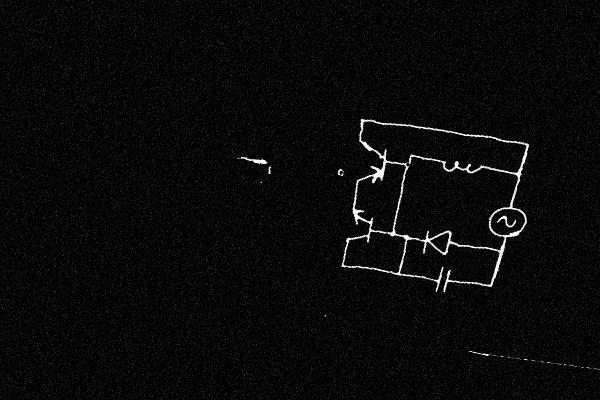capacitor: (429, 265, 456, 297)
diode: (414, 223, 457, 260)
inductor: (436, 154, 490, 182)
signal: (483, 198, 534, 246)
